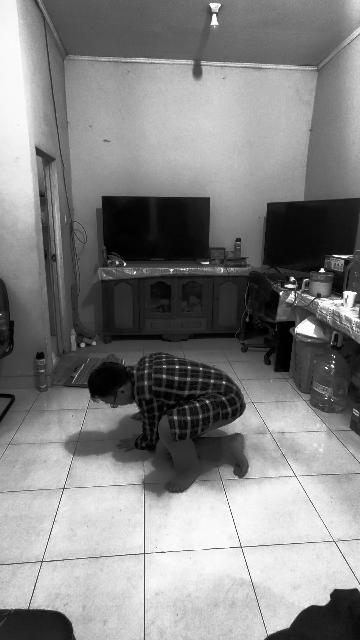jatuh: (86, 342, 253, 500)
